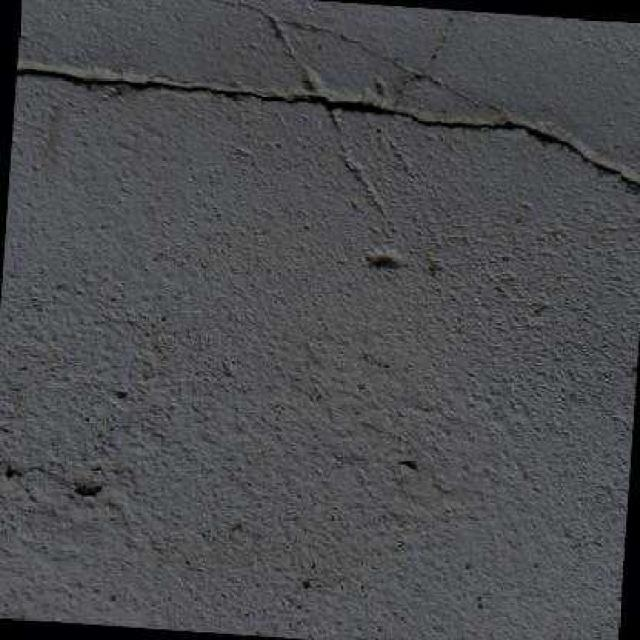D00: (16, 58, 640, 189)
